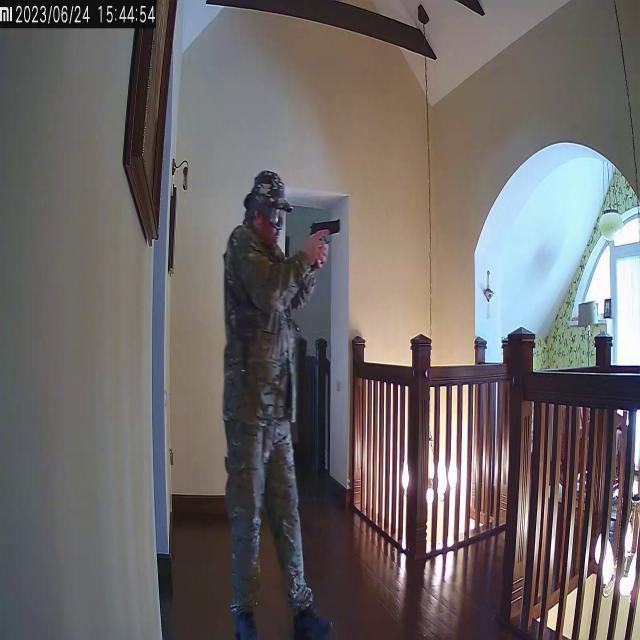pistol: (309, 216, 343, 264)
